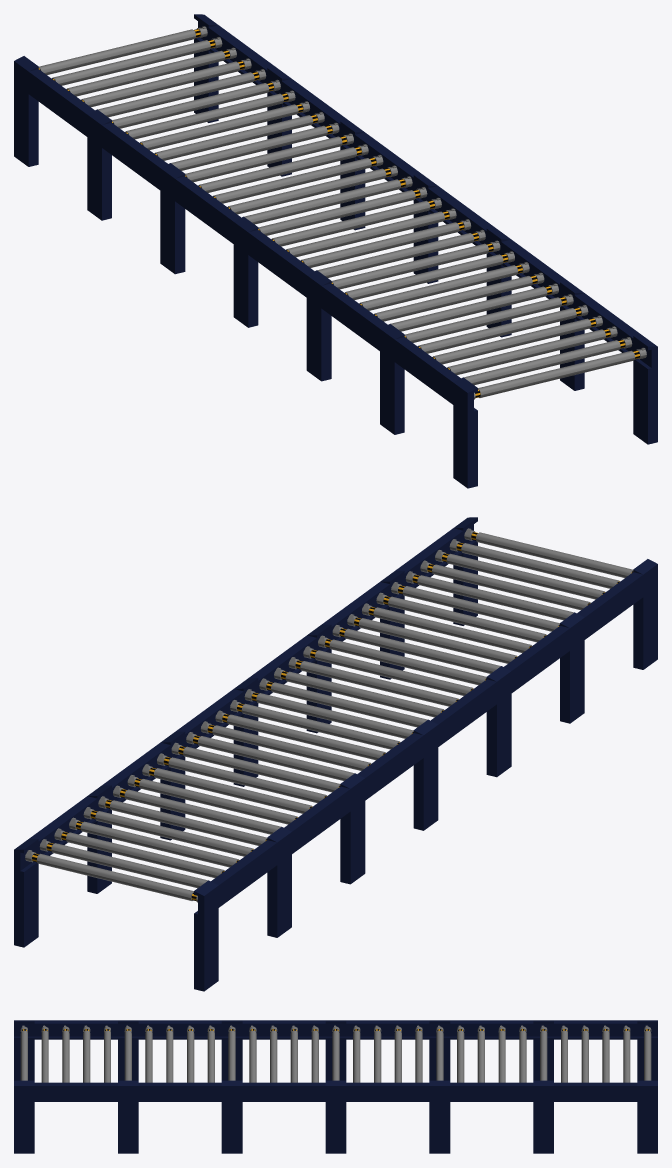
The model's file is conveyorBelt.fbx.
The picture shows the model from 3 angles, top to bottom: view 1: azimuth 30°, elevation 25°; view 2: azimuth 150°, elevation 25°; view 3: azimuth 270°, elevation 25°; orthographic projection. The views are drawn at different scales.
Parts seen in each view (by area): view 1: Cube, Cube.001, Bar.030, Bar.028, Bar.003, Bar.011, Bar.018, Bar.006, Bar.017, Bar.001, Bar.002, Bar.012 (+21 smaller); view 2: Cube, Cube.001, Bar, Bar.019, Bar.024, Bar.002, Bar.012, Bar.027, Bar.013, Bar.008, Bar.023, Bar.028 (+21 smaller); view 3: Cube.001, Cube, Bar.001, Bar.002, Bar.006, Bar.007, Bar.008, Bar.009, Bar.011, Bar.013, Bar.014, Bar.016 (+21 smaller).
Boxes of the visible parts, bbox=[...] form: Cube: bbox=[14, 14, 657, 488]; Cube.001: bbox=[28, 25, 642, 404]; Bar.030: bbox=[474, 347, 646, 399]; Bar.028: bbox=[447, 326, 617, 374]; Bar.003: bbox=[81, 58, 251, 107]; Bar.011: bbox=[198, 144, 368, 192]; Bar.018: bbox=[300, 219, 471, 267]; Bar.006: bbox=[125, 90, 295, 139]; Bar.017: bbox=[286, 208, 456, 257]; Bar.001: bbox=[52, 37, 222, 85]; Bar.002: bbox=[66, 47, 236, 96]; Bar.012: bbox=[213, 154, 383, 203]; Cube: bbox=[14, 517, 657, 991]; Cube.001: bbox=[29, 528, 643, 907]; Bar: bbox=[25, 850, 197, 902]; Bar.019: bbox=[303, 646, 473, 695]; Bar.024: bbox=[376, 592, 546, 642]; Bar.002: bbox=[54, 828, 224, 877]; Bar.012: bbox=[200, 721, 371, 770]; Bar.027: bbox=[420, 560, 590, 610]; Bar.013: bbox=[215, 710, 385, 760]; Bar.008: bbox=[142, 764, 312, 813]; Bar.023: bbox=[362, 603, 531, 653]; Bar.028: bbox=[435, 550, 605, 599]; Cube.001: bbox=[34, 1020, 637, 1101]; Cube: bbox=[14, 1020, 657, 1153]; Bar.001: bbox=[623, 1025, 630, 1082]; Bar.002: bbox=[602, 1025, 609, 1082]; Bar.006: bbox=[519, 1025, 526, 1082]; Bar.007: bbox=[498, 1025, 505, 1082]; Bar.008: bbox=[477, 1025, 484, 1082]; Bar.009: bbox=[457, 1025, 464, 1082]; Bar.011: bbox=[415, 1025, 422, 1082]; Bar.013: bbox=[374, 1025, 381, 1082]; Bar.014: bbox=[353, 1025, 360, 1082]; Bar.016: bbox=[311, 1025, 318, 1082].
Size of the model in its own units: 375 by 185 by 1550.
